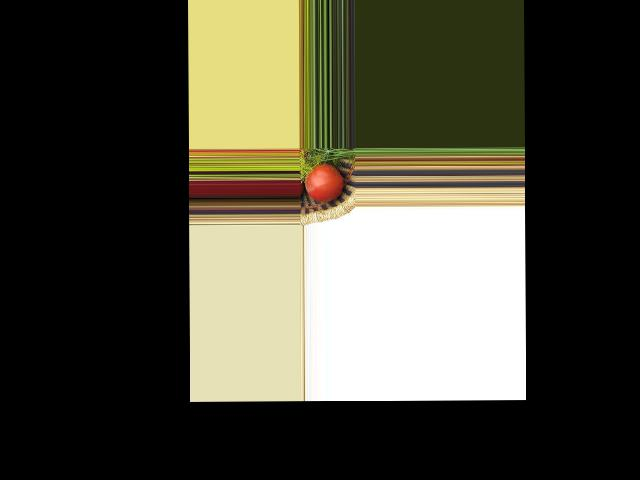tomato: (305, 162, 343, 202)
